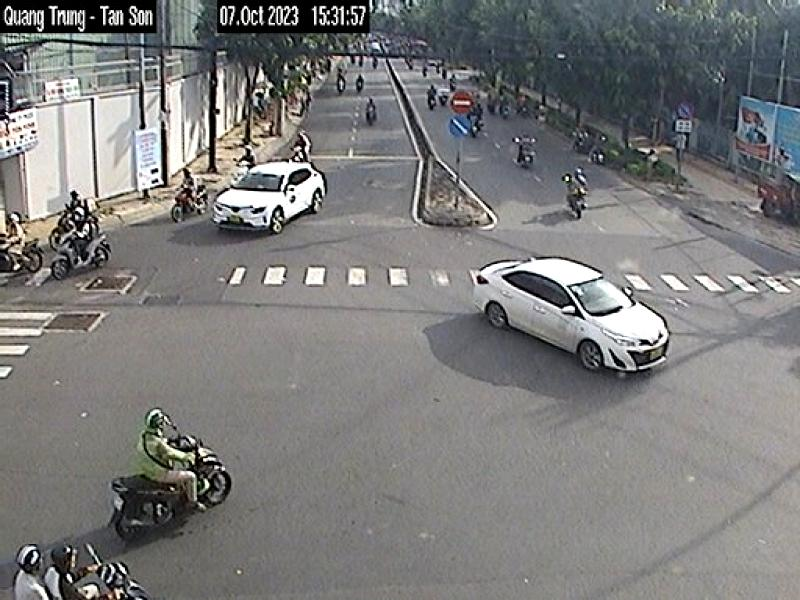car: (463, 239, 671, 393), (206, 151, 333, 244)
motorcycle: (98, 438, 232, 546), (16, 565, 174, 600), (48, 231, 117, 282), (166, 188, 214, 219), (563, 192, 591, 218)
